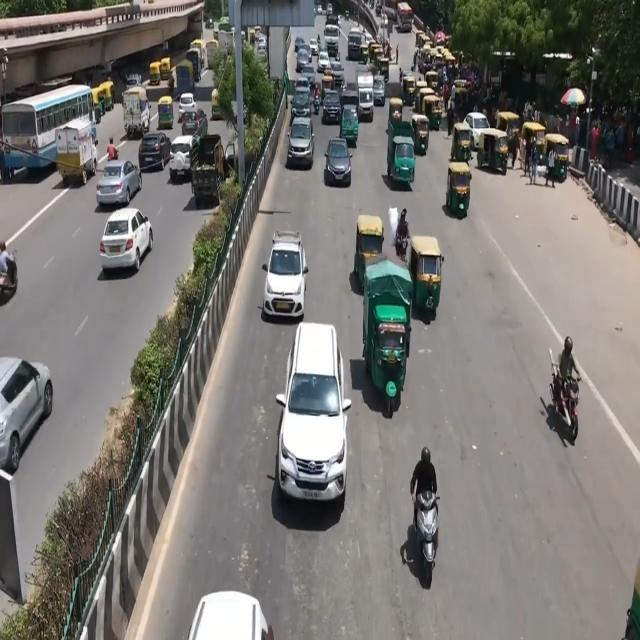Bike: (543, 335, 597, 453)
Scooty: (401, 438, 446, 584)
